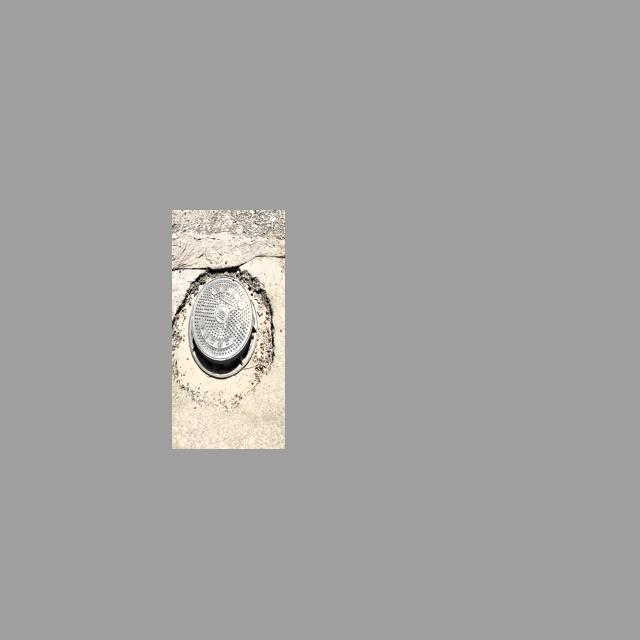circle: (174, 268, 273, 408)
